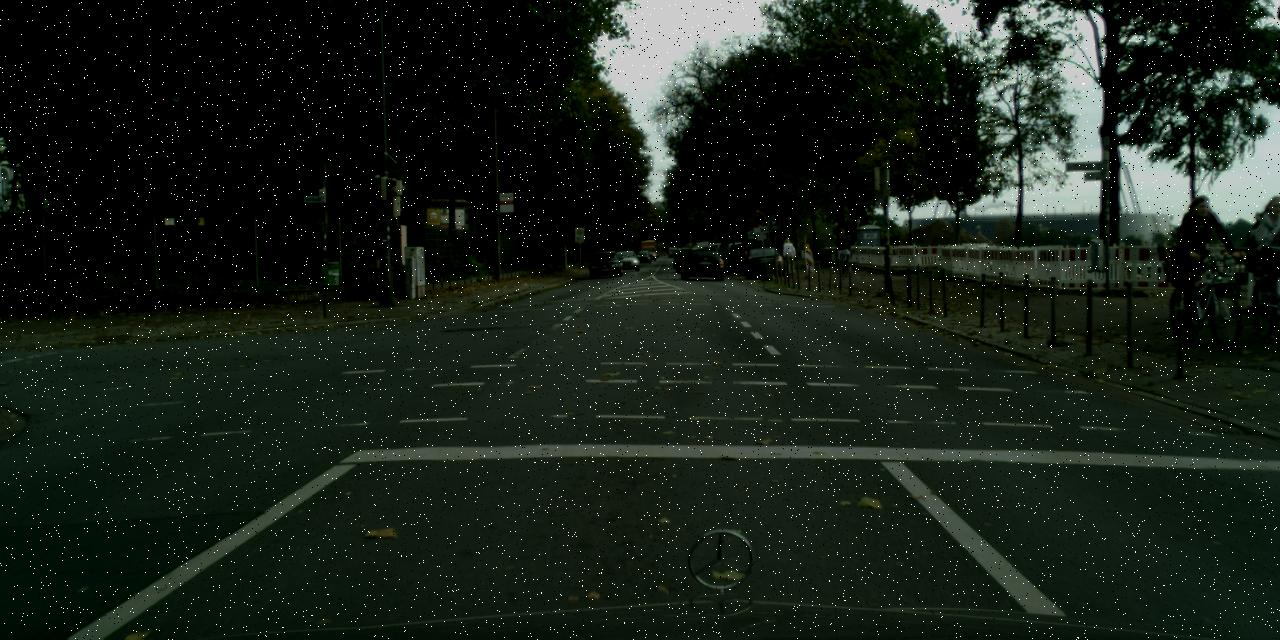ped: (1174, 196, 1225, 320), (1254, 195, 1279, 312), (835, 228, 851, 268), (782, 237, 796, 272)
